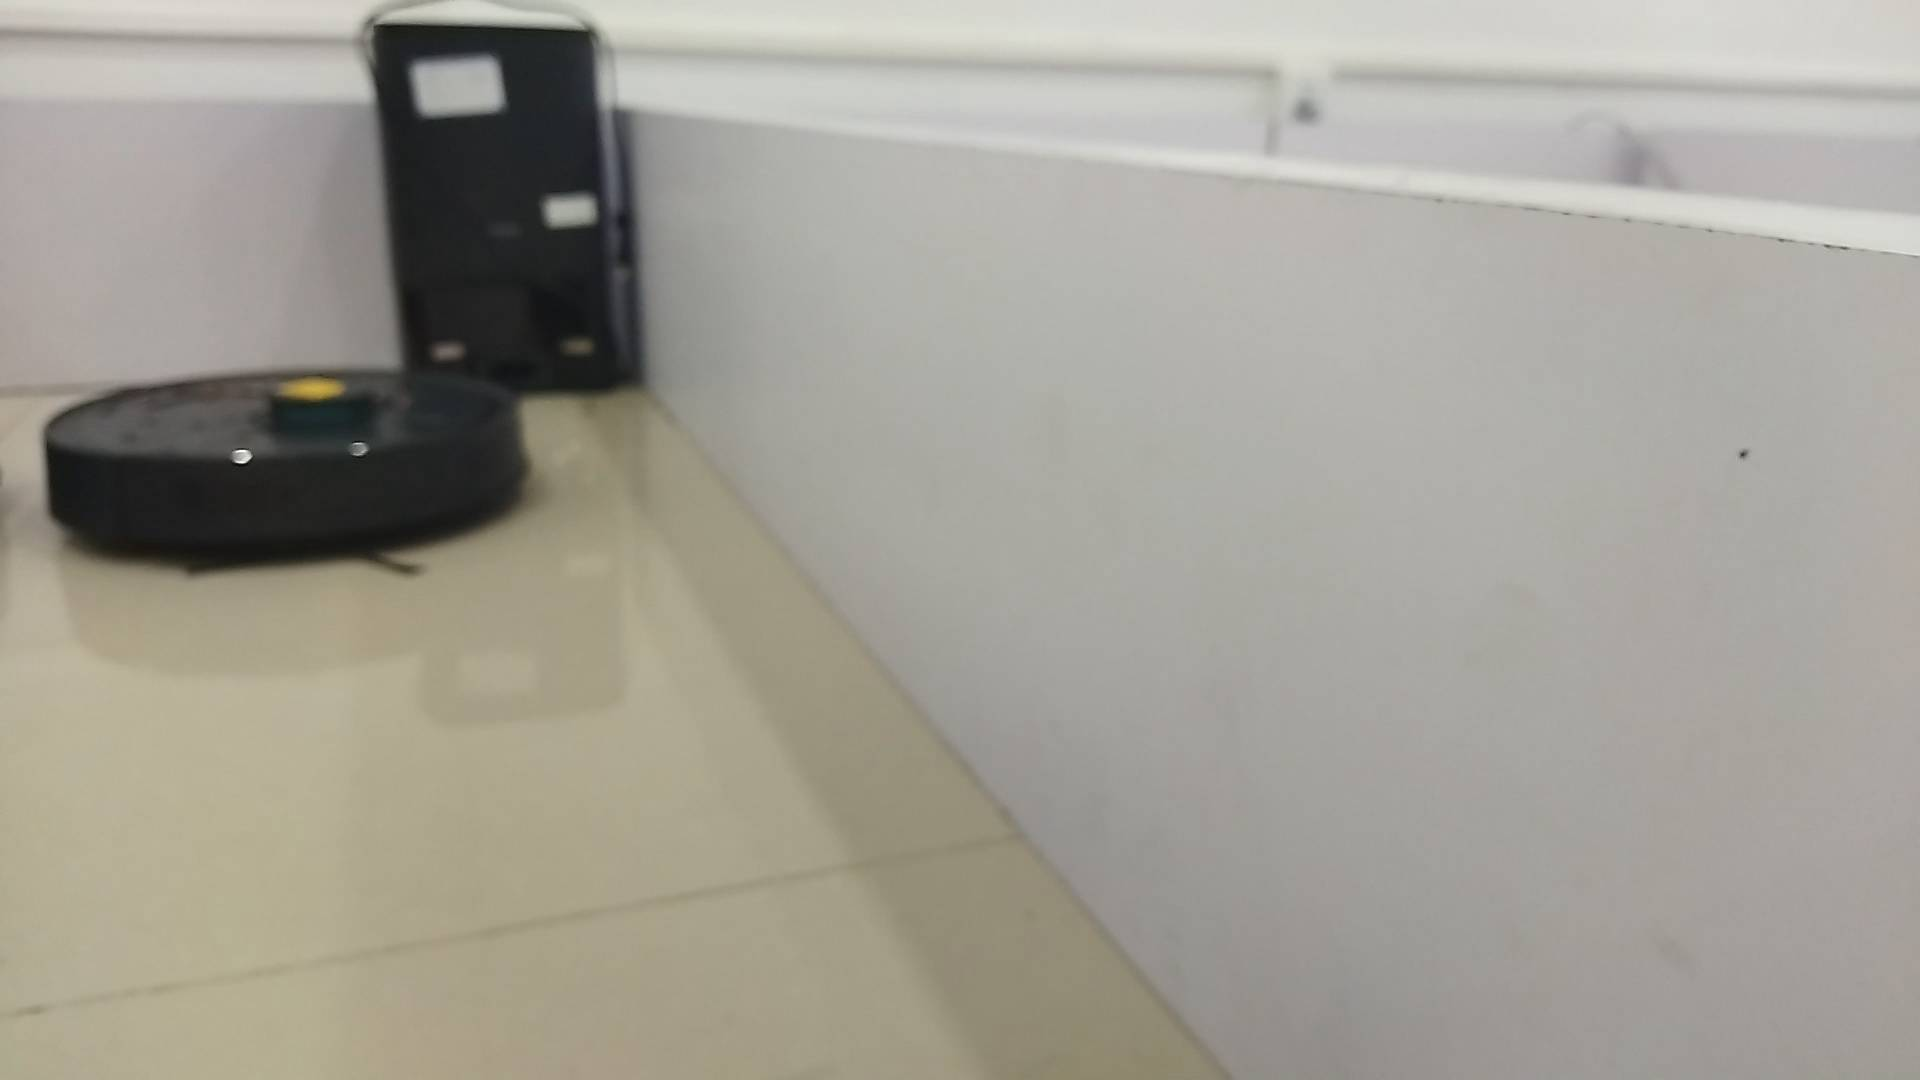dust collecting barrel: (368, 22, 634, 392)
